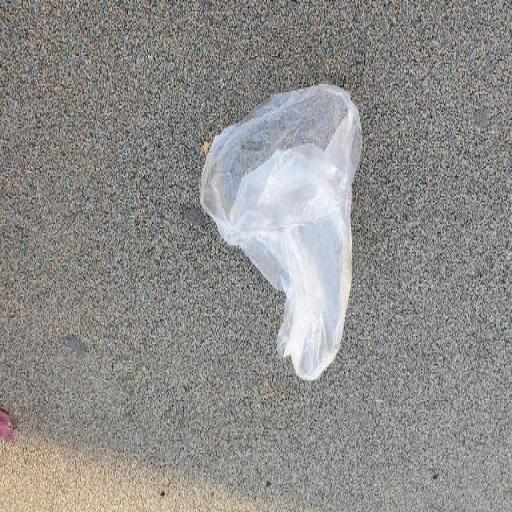plastic-bag: (199, 80, 364, 384)
